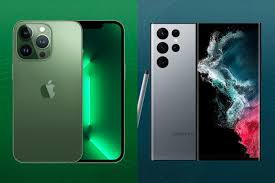Smartphone: (13, 21, 83, 168), (196, 22, 263, 163), (149, 22, 200, 166), (78, 16, 120, 160)
